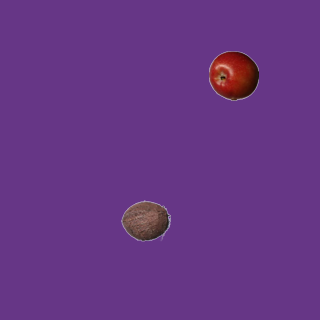Apple Braeburn: (208, 50, 258, 100)
Cocos: (120, 195, 170, 245)
